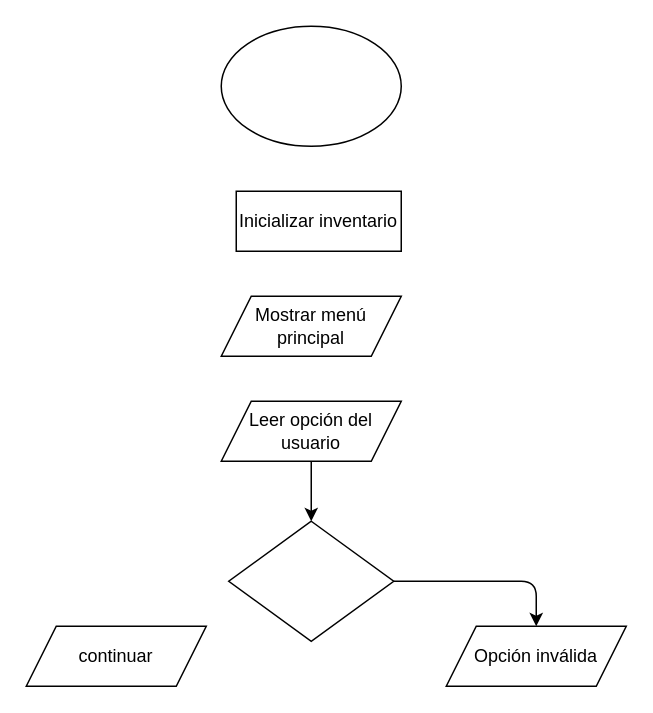
Some shapes in this 653 by 713 pixel diagram are drawn without their labels. The centre of each missing label's shape, as x and y in pixels:
Inicio: pixel 310 85
¿Opción válida?: pixel 310 580
